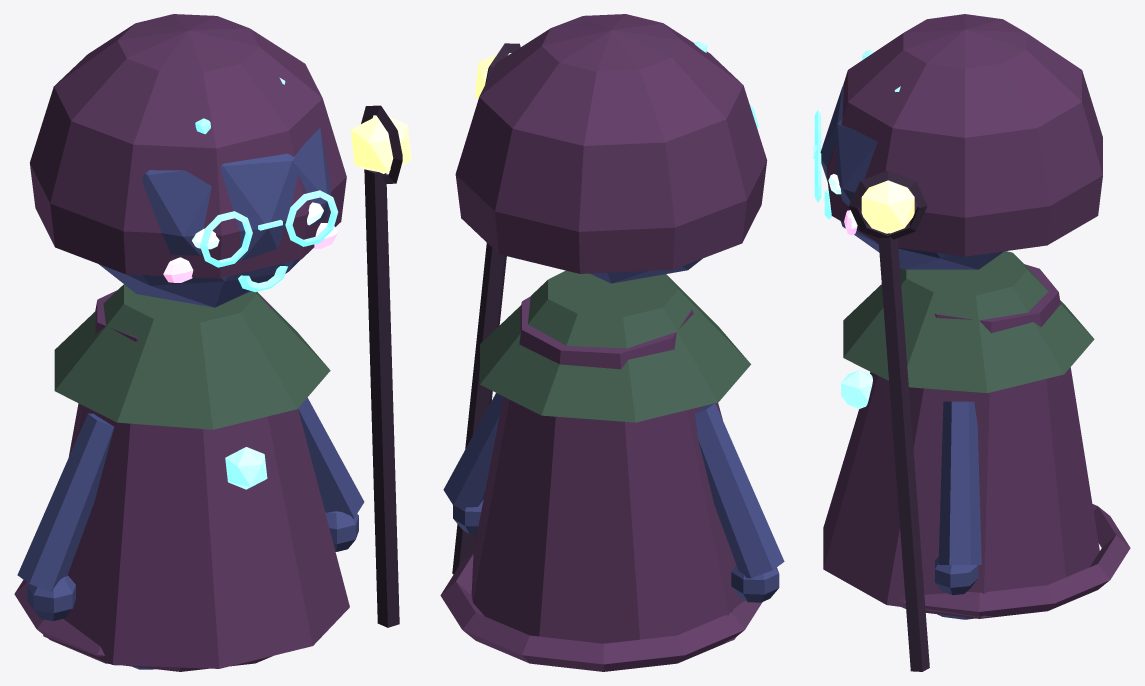
Rendered from ancienne_modele.glb.
3 views of the same model, side by side, from view 1: azimuth 30°, elevation 25°; view 2: azimuth 150°, elevation 25°; view 3: azimuth 270°, elevation 25° (orthographic). The views are drawn at different scales.
Parts seen in each view (by area): view 1: Robe_Ancienne, Capuche_Ancienne, P22.001, Crane_Ancienne, Baton_Ancienne, P8.002, P6.002, P27.001, P4.002, P9.002, Coeur_Ancienne, P23.002 (+4 smaller); view 2: Capuche_Ancienne, Robe_Ancienne, P22.001, P4.002, P8.002, Baton_Ancienne, P6.002, P9.002, Crane_Ancienne, P7.002; view 3: Capuche_Ancienne, Robe_Ancienne, P22.001, Baton_Ancienne, P6.002, P4.002, Crane_Ancienne, P27.001, P28.001, P7.002, Coeur_Ancienne.
Part boxes in pixels (x1=…): Robe_Ancienne: x1=43, y1=290, x2=349, y2=668; Capuche_Ancienne: x1=30, y1=14, x2=346, y2=278; P22.001: x1=54, y1=284, x2=330, y2=429; Crane_Ancienne: x1=99, y1=128, x2=330, y2=307; Baton_Ancienne: x1=364, y1=169, x2=399, y2=627; P8.002: x1=17, y1=413, x2=114, y2=591; P6.002: x1=298, y1=397, x2=364, y2=518; P27.001: x1=350, y1=116, x2=411, y2=173; P4.002: x1=14, y1=580, x2=273, y2=671; P9.002: x1=27, y1=575, x2=75, y2=620; Coeur_Ancienne: x1=225, y1=447, x2=267, y2=489; P23.002: x1=285, y1=190, x2=338, y2=246; Capuche_Ancienne: x1=455, y1=14, x2=767, y2=273; Robe_Ancienne: x1=471, y1=296, x2=744, y2=643; P22.001: x1=480, y1=270, x2=750, y2=422; P4.002: x1=440, y1=552, x2=762, y2=671; P8.002: x1=695, y1=403, x2=784, y2=578; Baton_Ancienne: x1=452, y1=243, x2=506, y2=574; P6.002: x1=443, y1=393, x2=503, y2=508; P9.002: x1=731, y1=565, x2=779, y2=602; Crane_Ancienne: x1=590, y1=258, x2=702, y2=283; P7.002: x1=453, y1=499, x2=483, y2=534; Capuche_Ancienne: x1=827, y1=14, x2=1102, y2=256; Robe_Ancienne: x1=823, y1=264, x2=1099, y2=617; P22.001: x1=843, y1=251, x2=1094, y2=393; Baton_Ancienne: x1=878, y1=232, x2=929, y2=671; P6.002: x1=938, y1=401, x2=981, y2=564; P4.002: x1=899, y1=504, x2=1130, y2=618; Crane_Ancienne: x1=820, y1=86, x2=1003, y2=269; P27.001: x1=861, y1=180, x2=914, y2=233; P28.001: x1=849, y1=170, x2=927, y2=239; P7.002: x1=935, y1=556, x2=978, y2=595; Coeur_Ancienne: x1=841, y1=370, x2=872, y2=408.
Size of the model in its own units: 0.8114 by 1.36 by 0.6939.
